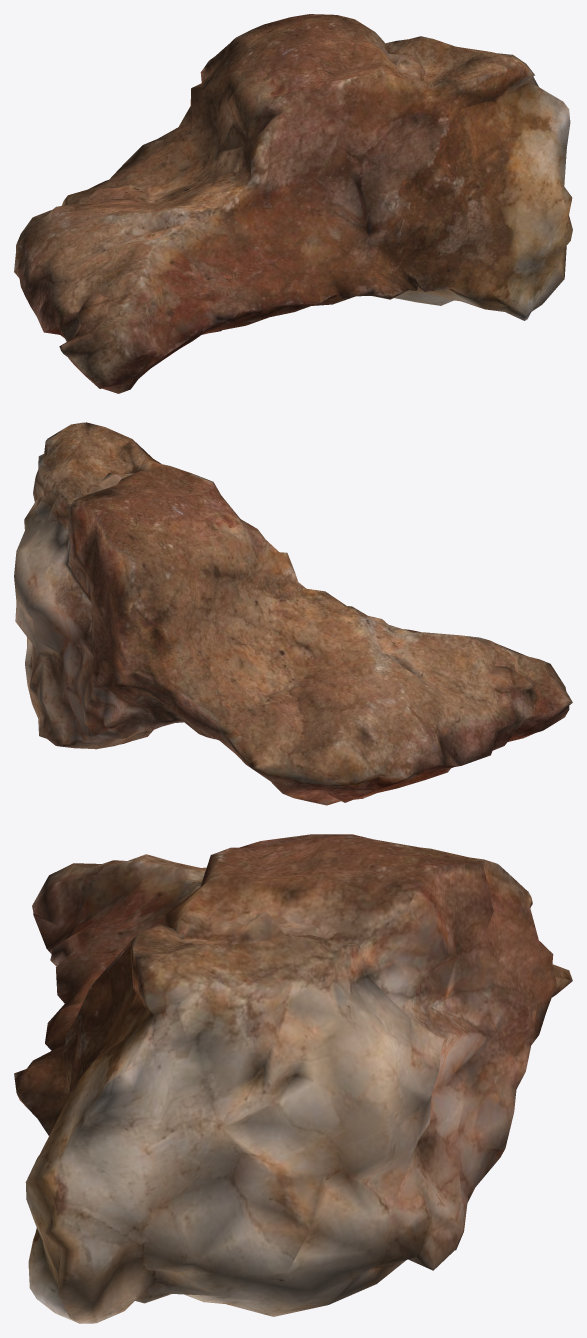
File: stone_01.glb
The picture shows the model from 3 angles, top to bottom: view 1: azimuth 30°, elevation 25°; view 2: azimuth 150°, elevation 25°; view 3: azimuth 270°, elevation 25°; orthographic projection. The views are drawn at different scales.
Visible parts, largest first — view 1: stone_01; view 2: stone_01; view 3: stone_01.
Part boxes in pixels (x1,y1,x2,y2): stone_01: [14, 14, 572, 393]; stone_01: [14, 422, 572, 805]; stone_01: [14, 834, 572, 1323].
Bounding box in the file's own units: 0.1465 × 0.0715 × 0.089.
1 material, 1 textured.
